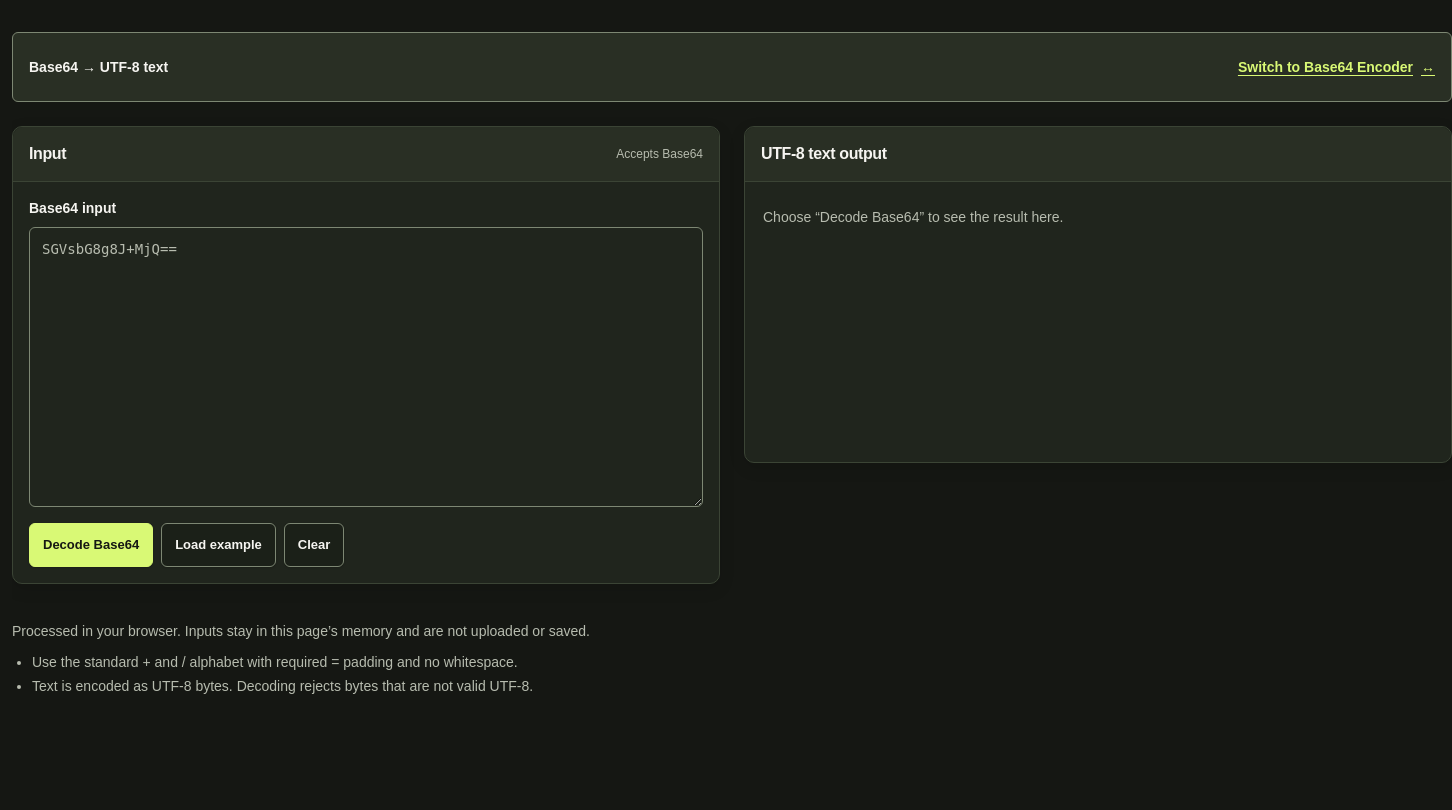
Encoding under dark DOM theme (not visual layout) › base64-decoder has exact inputs, keyboard conversion, exact copy and clear without network
Press Tab
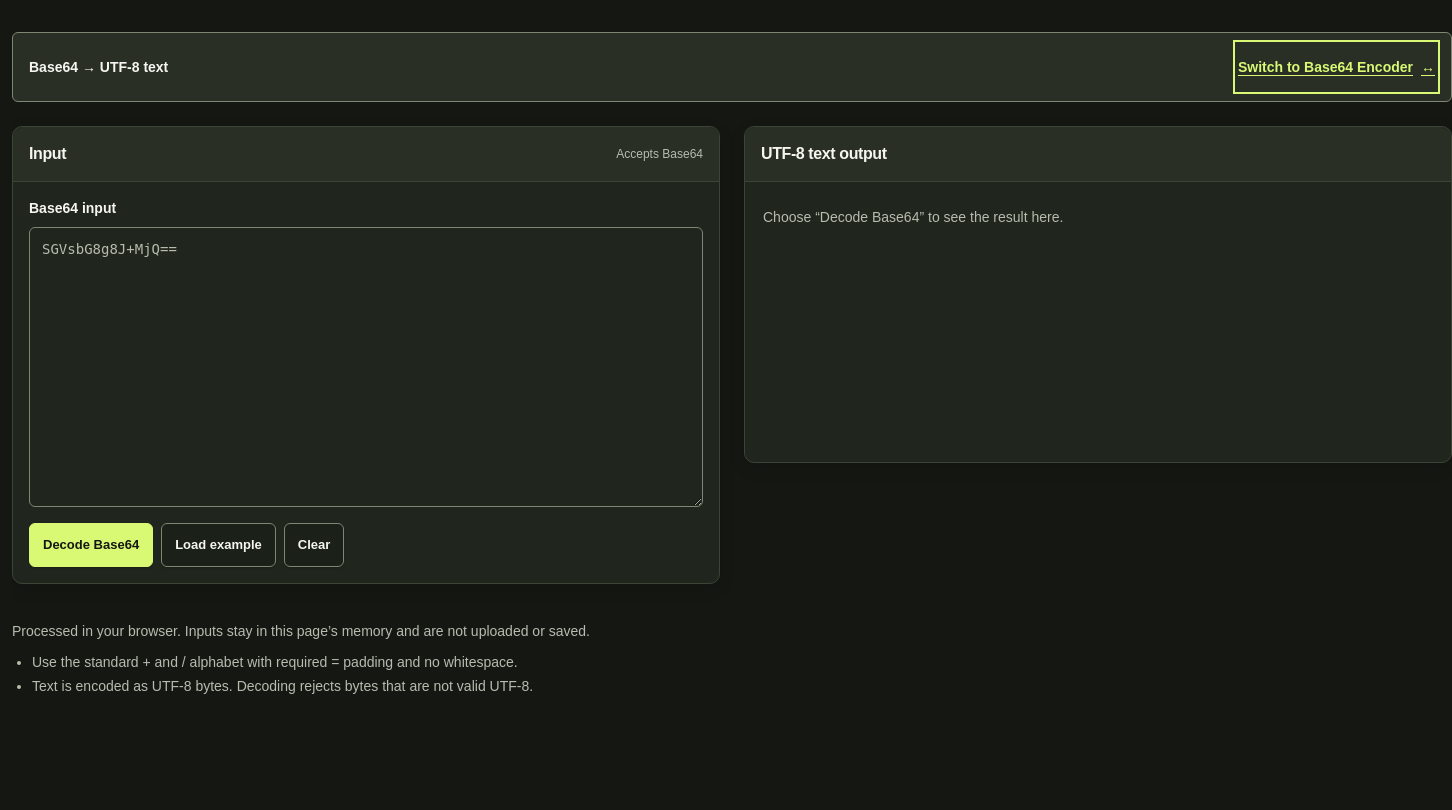
Click the button "Load example" at coordinates (218, 545), box [161,523,276,567]
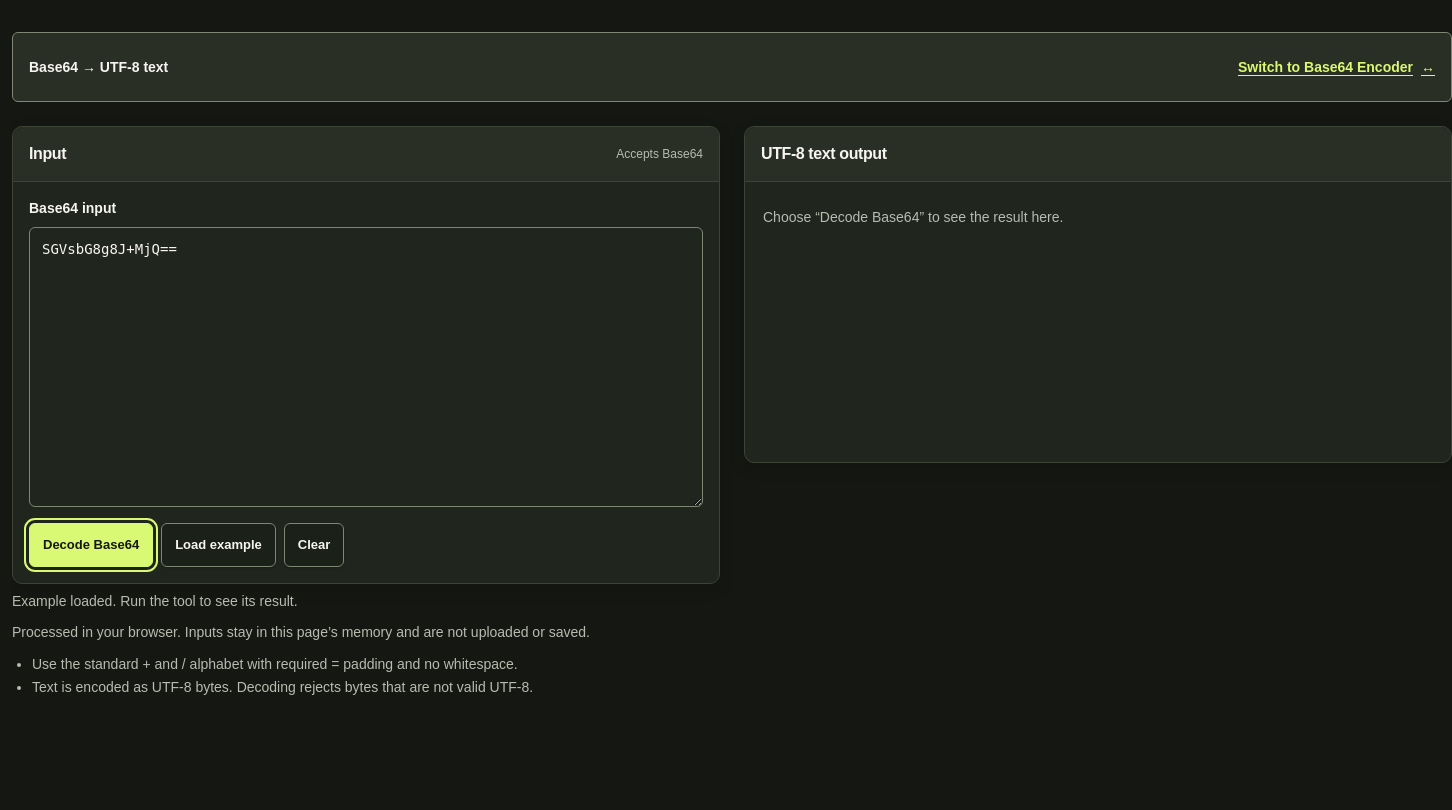
Press Enter
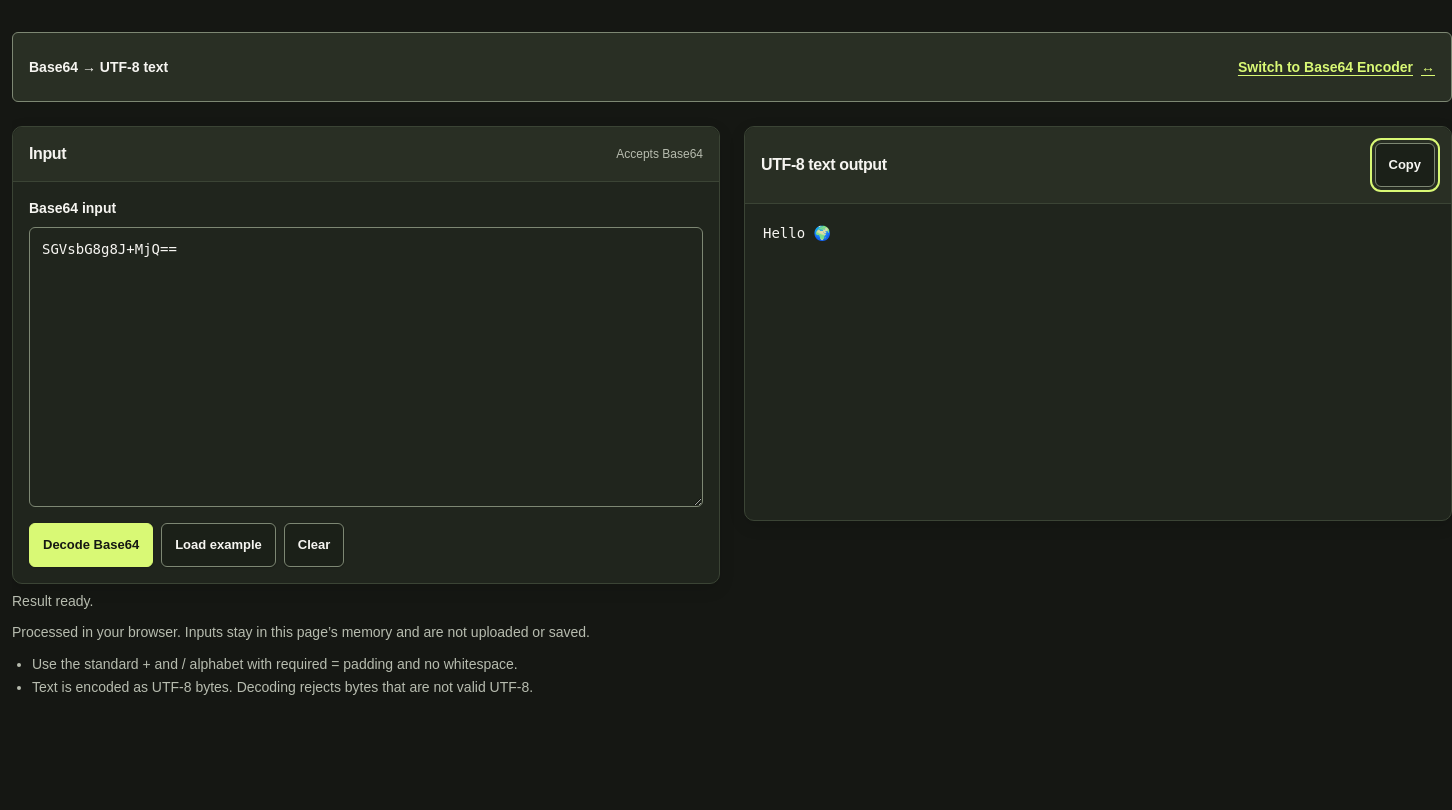
Press Enter
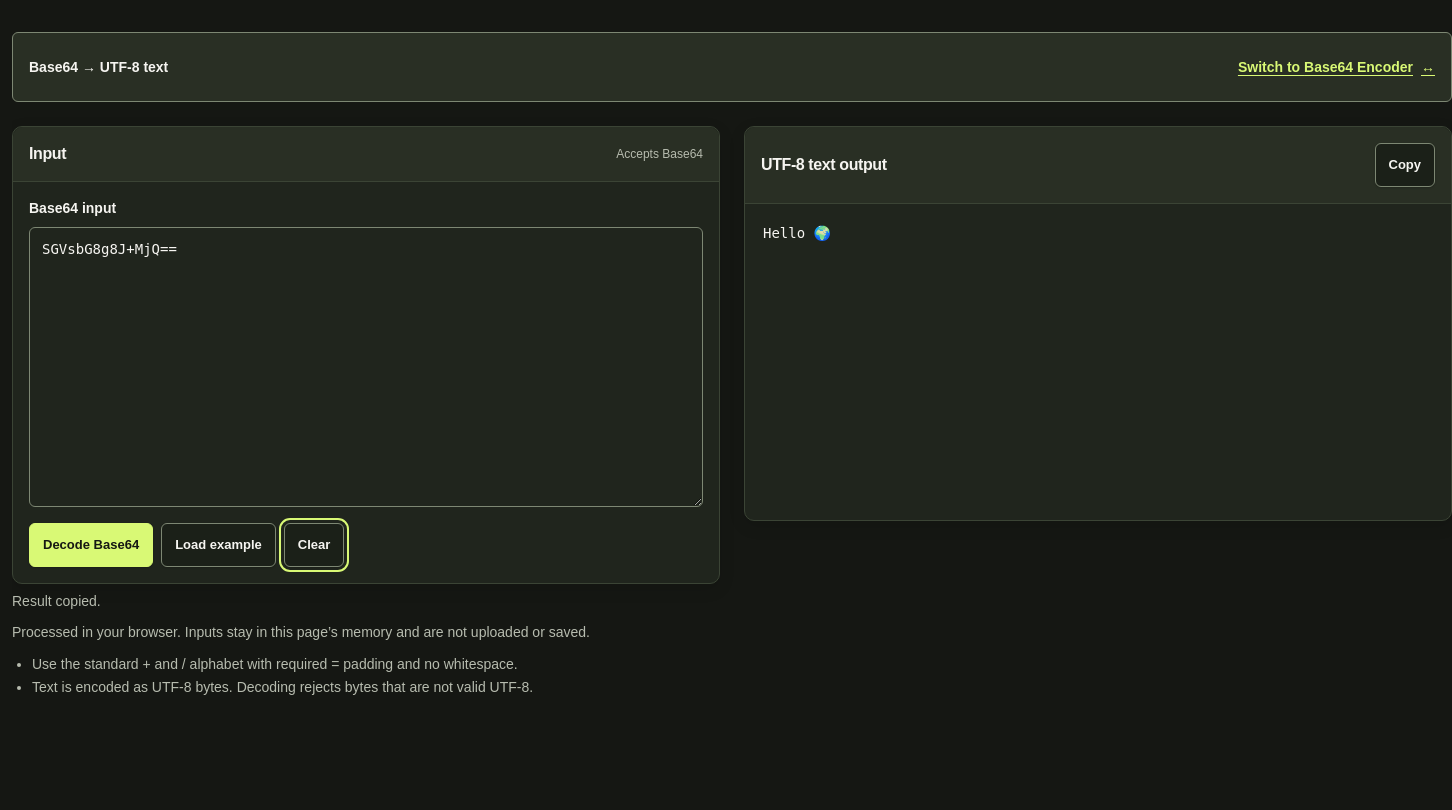
Press Enter
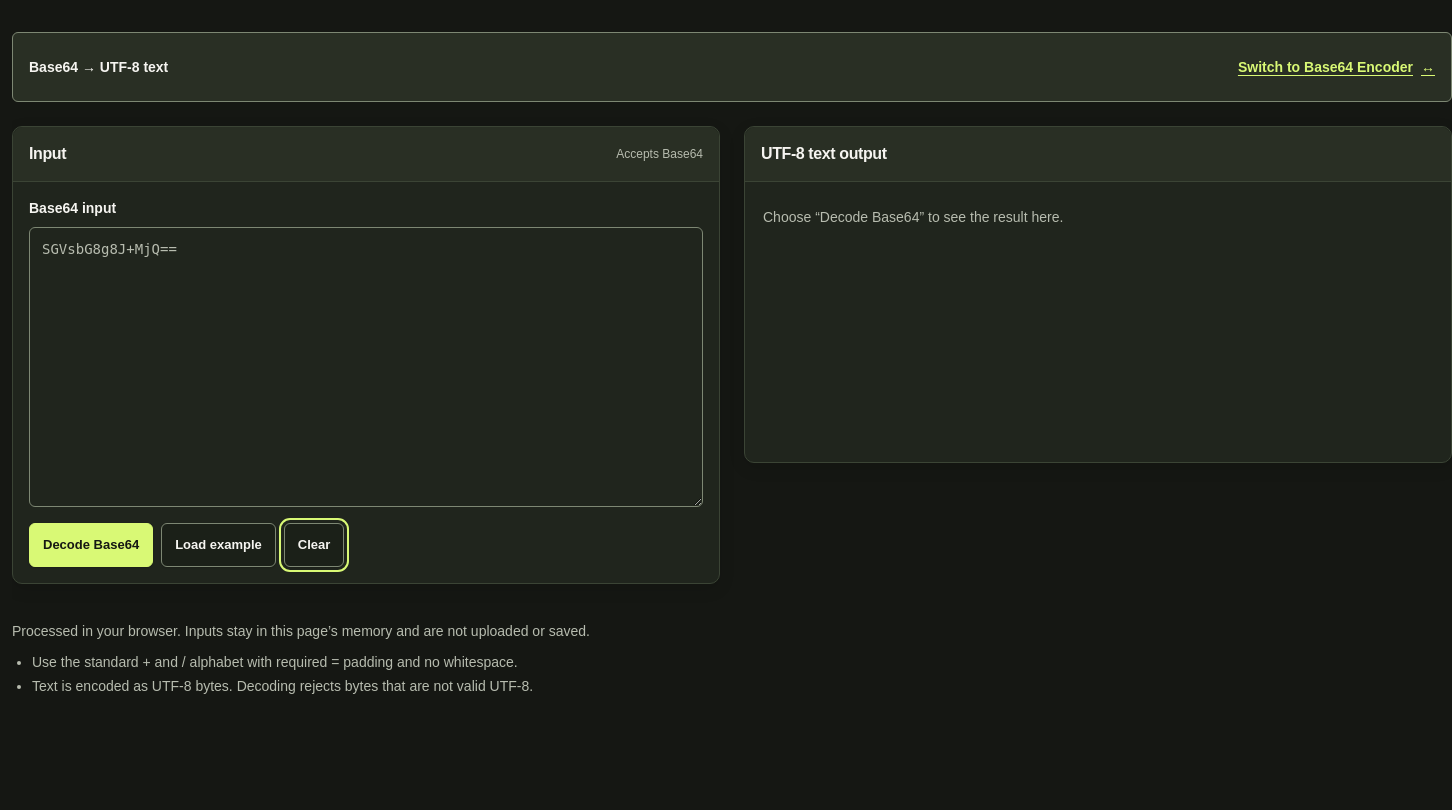
expect the text box labelled "Base64 input" is empty: met, box [29,227,703,507]
expect the button "Copy" is gone: met
